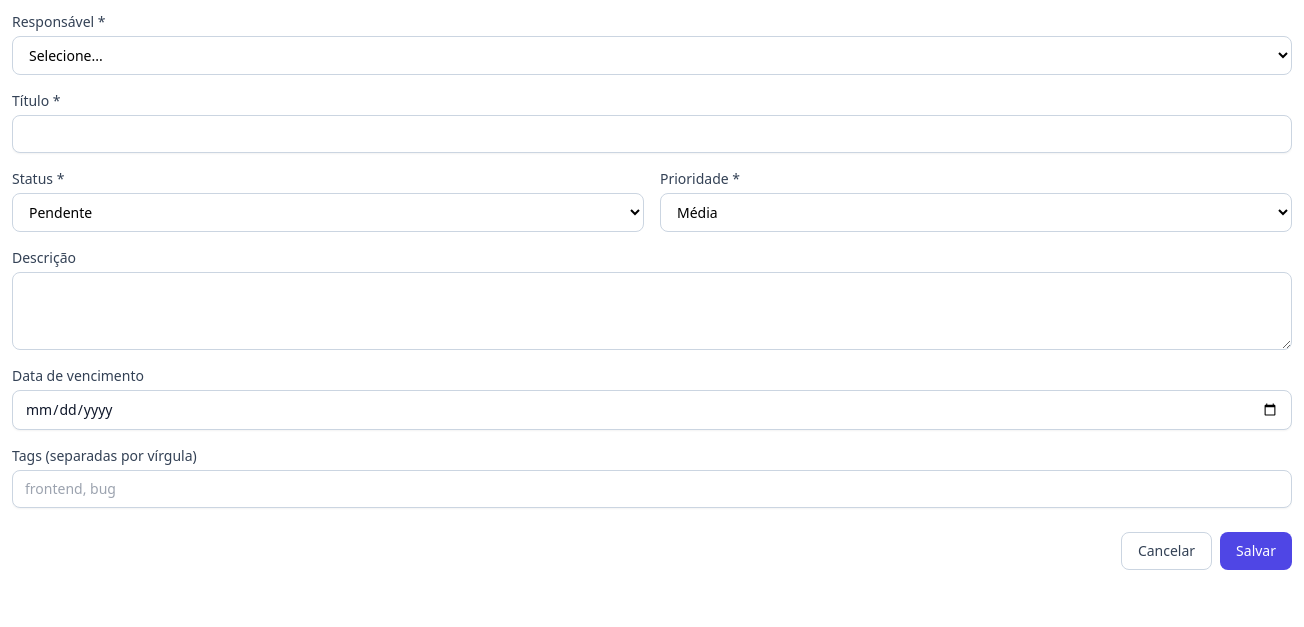
Test: TaskForm validation › shows validation errors on empty submit
Click the button "Salvar".
click(1256, 551)  # box left=1220, top=532, right=1292, bottom=570
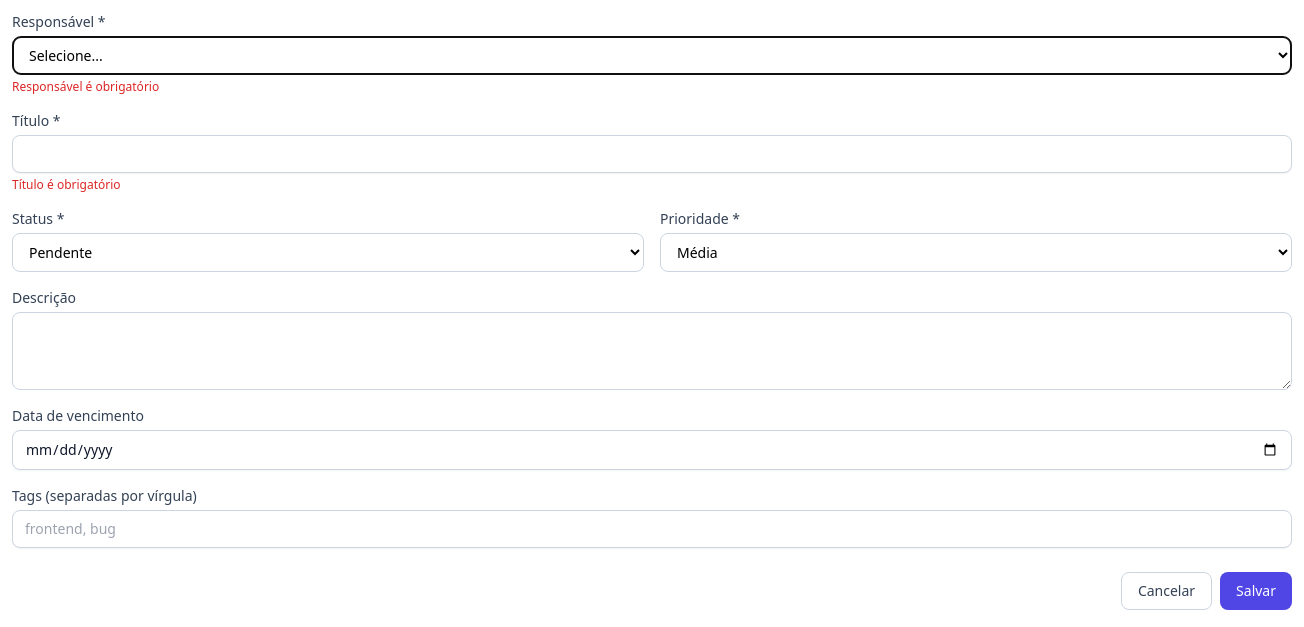
Expected: the text "Responsável é obrigatório" is shown, left=12, top=78, right=159, bottom=95
Expected: the text "Título é obrigatório" is shown, left=12, top=176, right=121, bottom=193
